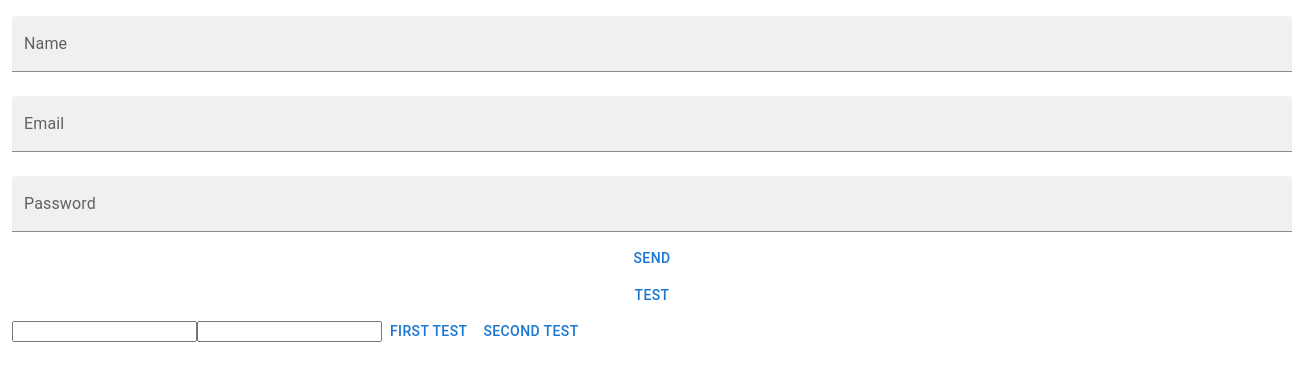
Test case: input values for auth › renders red button
Expected: the element with test id "password" is shown, [12,176,1292,232]
Expected: the element with test id "email" is shown, [12,96,1292,152]
Step 1. Click the button "Test" → [652, 295], box [12,276,1292,313]
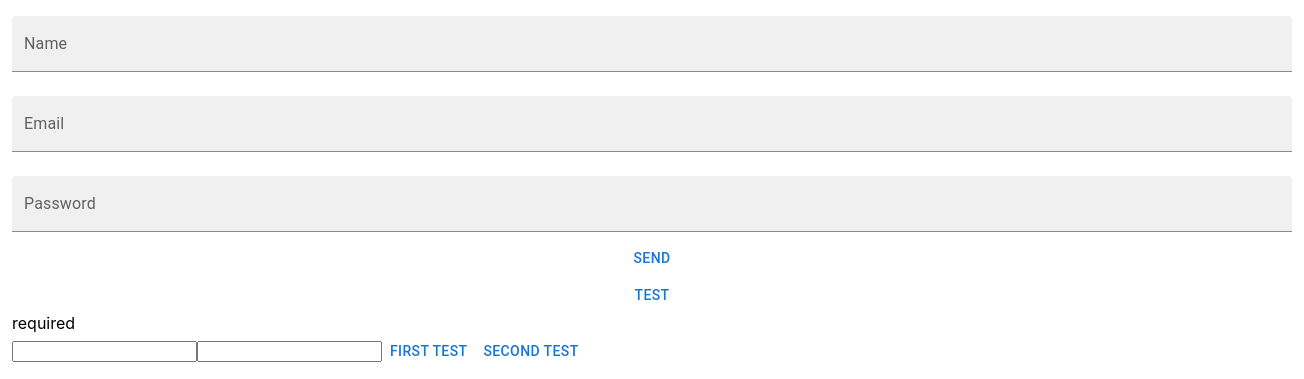
Now the text "required" is shown, box [12,313,75,333]
